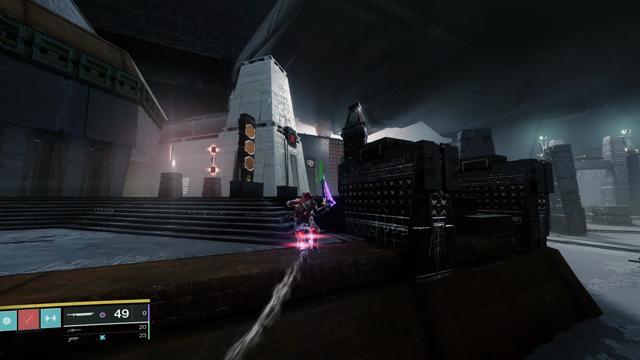brain: (305, 158, 315, 168)
stop: (290, 133, 295, 145)
